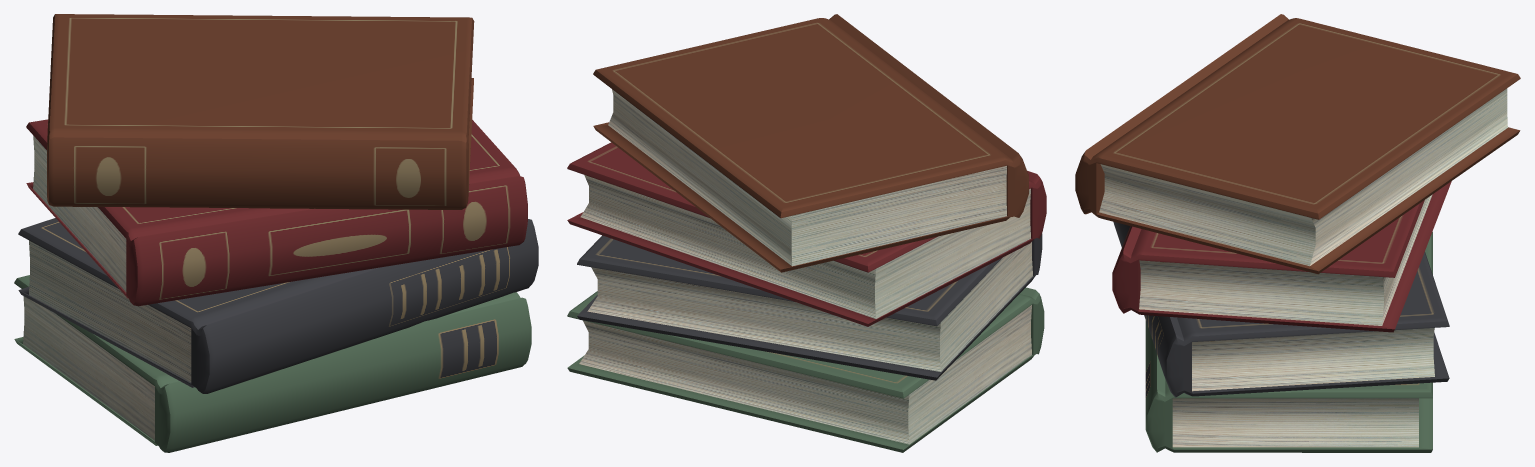
Rendered from AP_BookPileClean_CS.fbx.
3 renders of one model, left to right at view 1: azimuth 30°, elevation 25°; view 2: azimuth 150°, elevation 25°; view 3: azimuth 270°, elevation 25°, orthographic. The views are drawn at different scales.
Parts seen in each view (by area): view 1: bookbrown, bookblue, bookred, bookgreen; view 2: bookbrown, bookgreen, bookblue, bookred; view 3: bookbrown, bookred, bookblue, bookgreen.
Part boxes in pixels (x1,y1,x2,y2): bookbrown: (47,14,474,209); bookblue: (18,218,538,393); bookred: (26,119,527,306); bookgreen: (14,275,531,452); bookbrown: (593,14,1028,272); bookgreen: (567,287,1044,452); bookblue: (577,233,1042,380); bookred: (567,142,1046,326); bookbrown: (1075,14,1520,274); bookred: (1112,181,1451,332); bookblue: (1113,221,1449,397); bookgreen: (1145,232,1432,452).
Bounding box in the file's own units: 4.67 × 2.77 × 4.33.
Materials: 4 (4 with a texture image).
